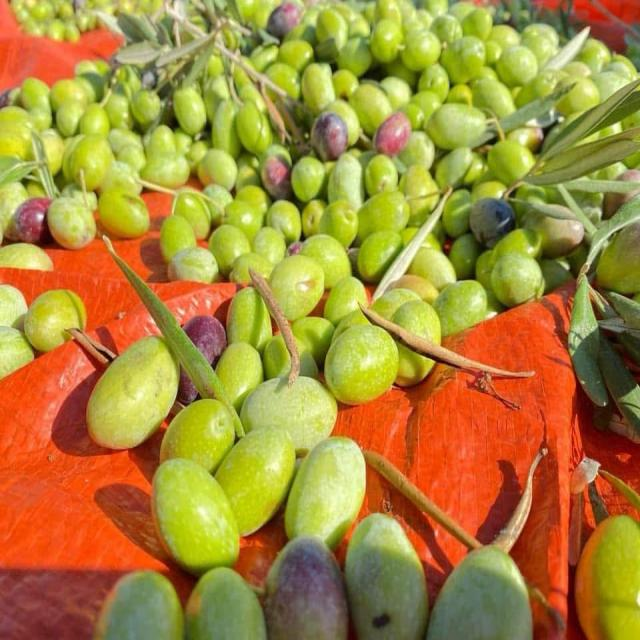Healthy: (152, 458, 241, 575), (87, 338, 178, 451), (426, 546, 533, 639), (285, 436, 366, 550), (215, 428, 295, 536), (576, 515, 639, 639), (240, 376, 337, 454), (324, 322, 399, 405), (160, 400, 238, 475), (23, 289, 86, 353), (266, 254, 323, 321), (490, 252, 545, 308), (226, 287, 272, 351), (425, 104, 490, 149), (357, 190, 409, 244), (47, 193, 96, 248), (441, 36, 485, 84), (237, 99, 272, 158), (317, 201, 358, 250), (301, 63, 337, 115), (496, 44, 539, 87), (401, 29, 441, 71), (291, 156, 326, 204)
